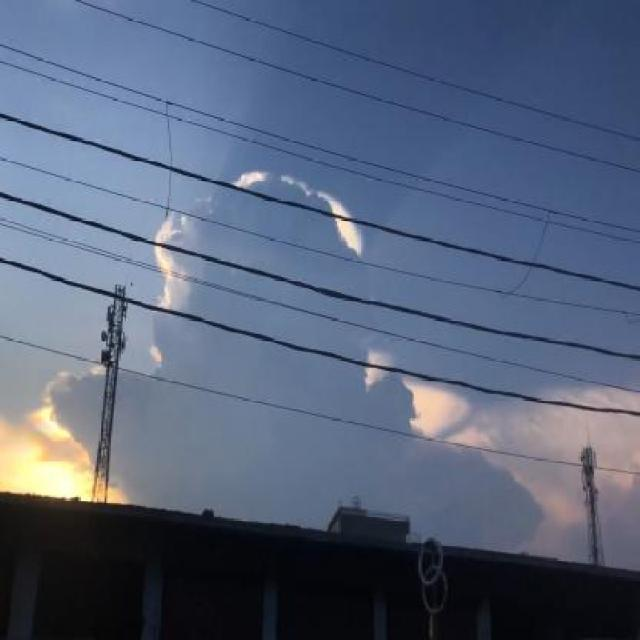bird: (130, 280, 133, 288)
